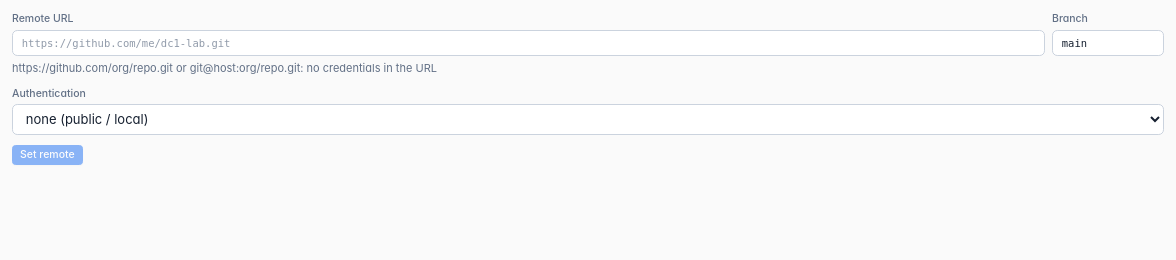
Test: git panel state › requires a token or key when none is stored
Type "git@github.com:x/y.git" into the field named "git.url" at (528, 43), box left=12, top=30, right=1045, bottom=56
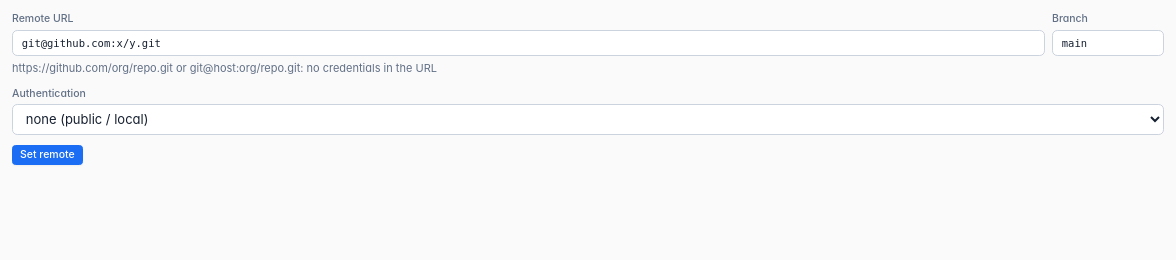
Select "SSH key" in the dropdown named "git.auth_kind" at (588, 119), box left=12, top=104, right=1164, bottom=134
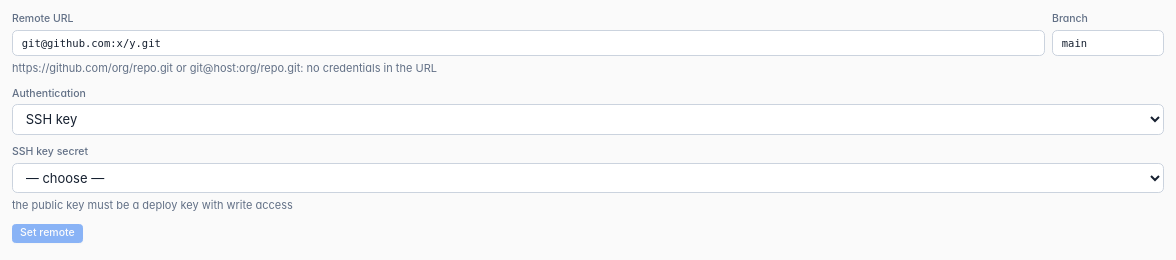
Expected: the button with test id "git-save" is disabled, left=12, top=224, right=83, bottom=243
Select "deploy" in the dropdown named "git.secret_id" at (588, 178), box left=12, top=162, right=1164, bottom=193
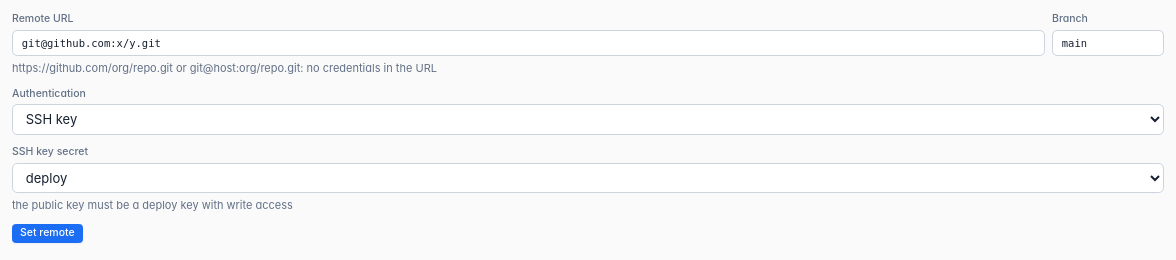
Expected: the button with test id "git-save" is enabled, left=12, top=224, right=83, bottom=243
